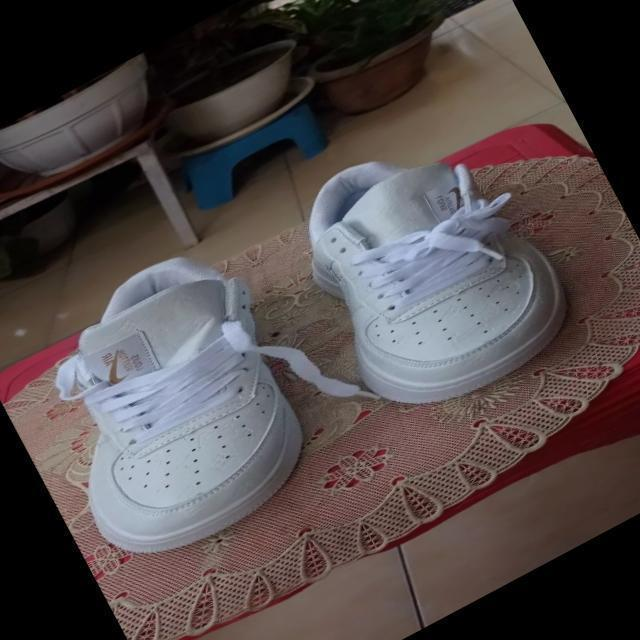nike fake air force: (0, 222, 350, 586), (264, 98, 596, 440)
